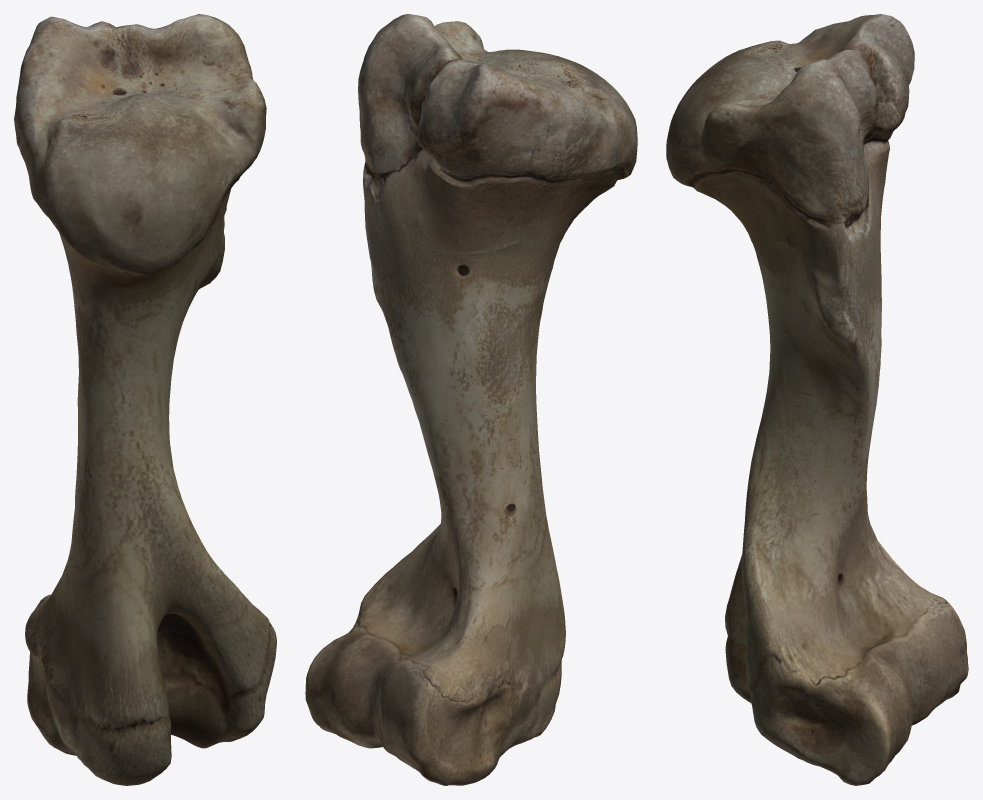
Rendered from umero-direito-equino.glb.
3 renders of one model, left to right at view 1: azimuth 30°, elevation 25°; view 2: azimuth 150°, elevation 25°; view 3: azimuth 270°, elevation 25°, orthographic. The views are drawn at different scales.
Parts seen in each view (by area): view 1: 3DModel_LowPoly; view 2: 3DModel_LowPoly; view 3: 3DModel_LowPoly.
Part boxes in pixels (x1,y1,x2,y2): 3DModel_LowPoly: [14, 14, 276, 785]; 3DModel_LowPoly: [305, 14, 637, 785]; 3DModel_LowPoly: [666, 14, 968, 785].
Bounding box in the file's own units: 1.1 × 2.96 × 1.16.
Materials: 1 (1 with a texture image).
